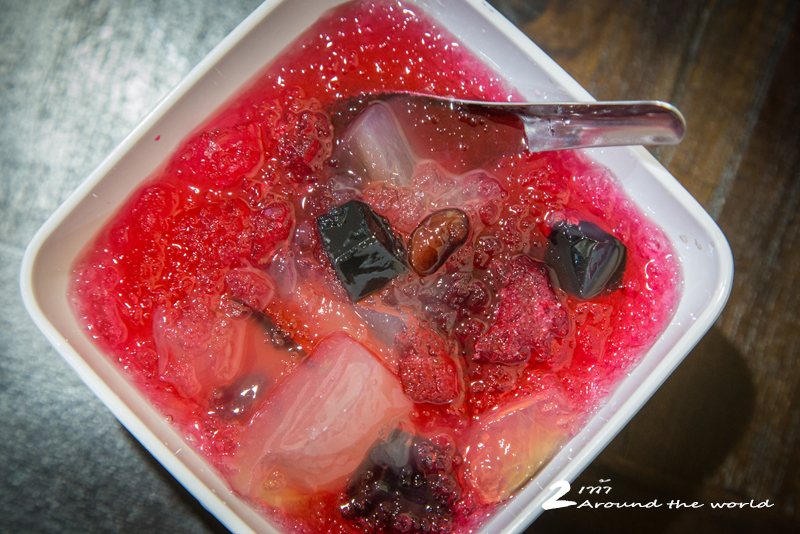O-eo: (46, 9, 741, 534)
